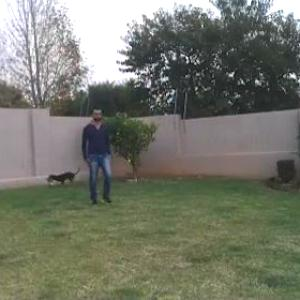follow: (82, 105, 112, 205)
